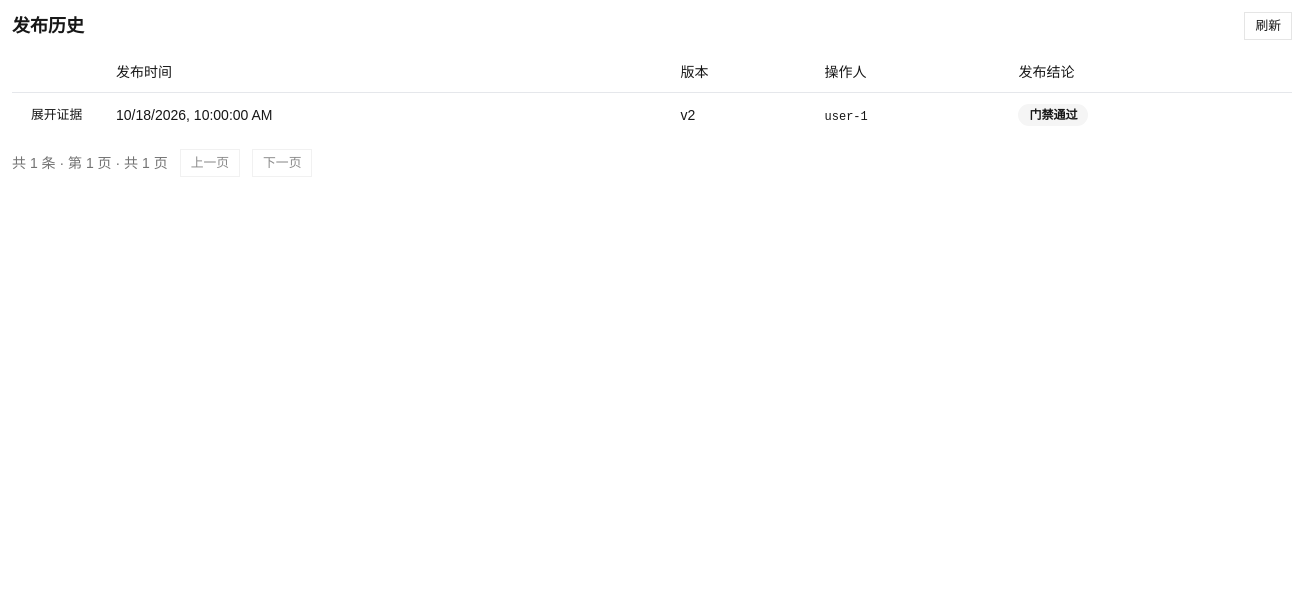
Test: PublicationHistoryPanel › falls back to raw JSON for a malformed gate report snapshot
The image size is (1304, 603).
Click the button "展开证据": (57, 114) [20,100,93,128]
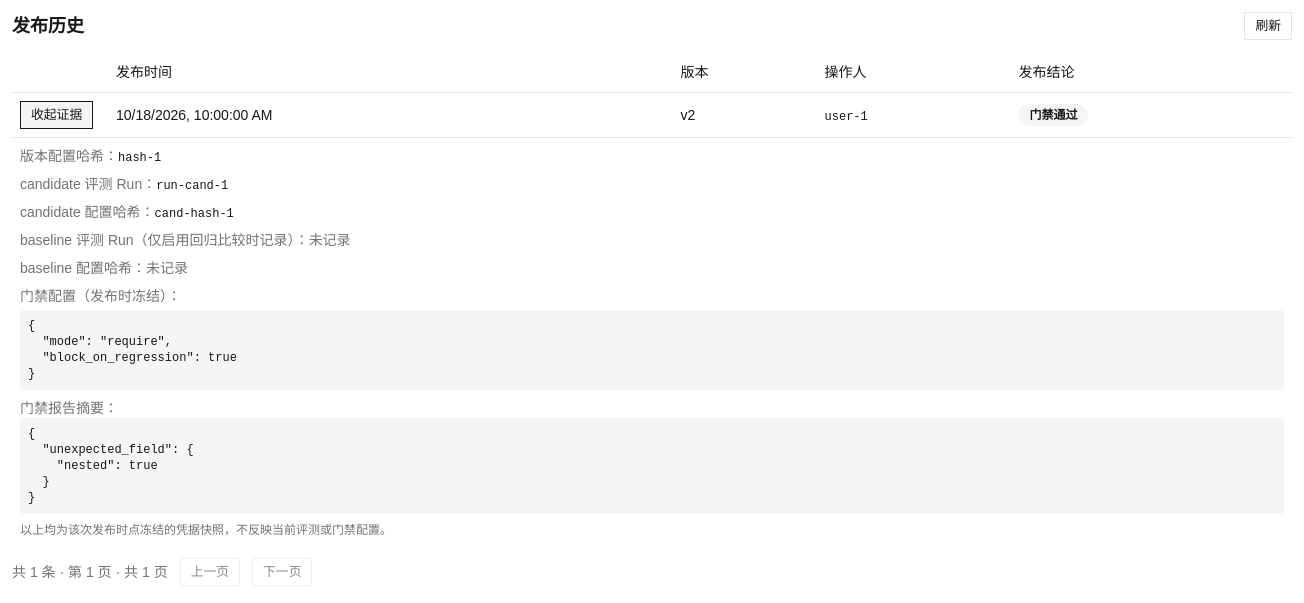
Check: the text with test id "gate-report-raw" shows "unexpected_field", box [28,426,194,504]
